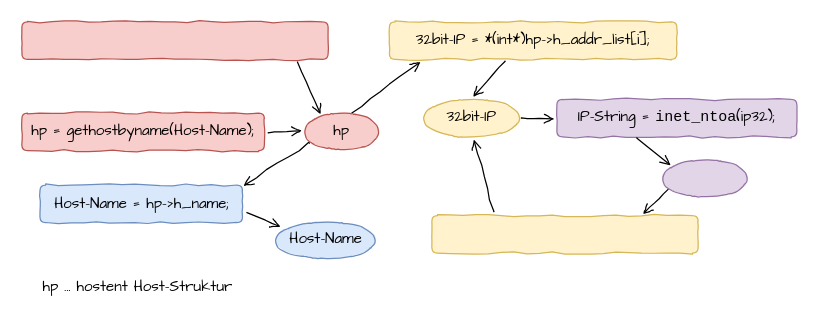
Some shapes in this 819 by 321 pixel diagram are drawn without their labels. Here are the shapes that lost their labels. From the top down, the box of each, then its label:
(21, 21, 328, 59): hp = gethostbyaddr(in_addr, 4, AF_INET);
(661, 159, 747, 196): IP-String
(431, 214, 698, 253): 32bit-IP = inet_addr (IP-String);
